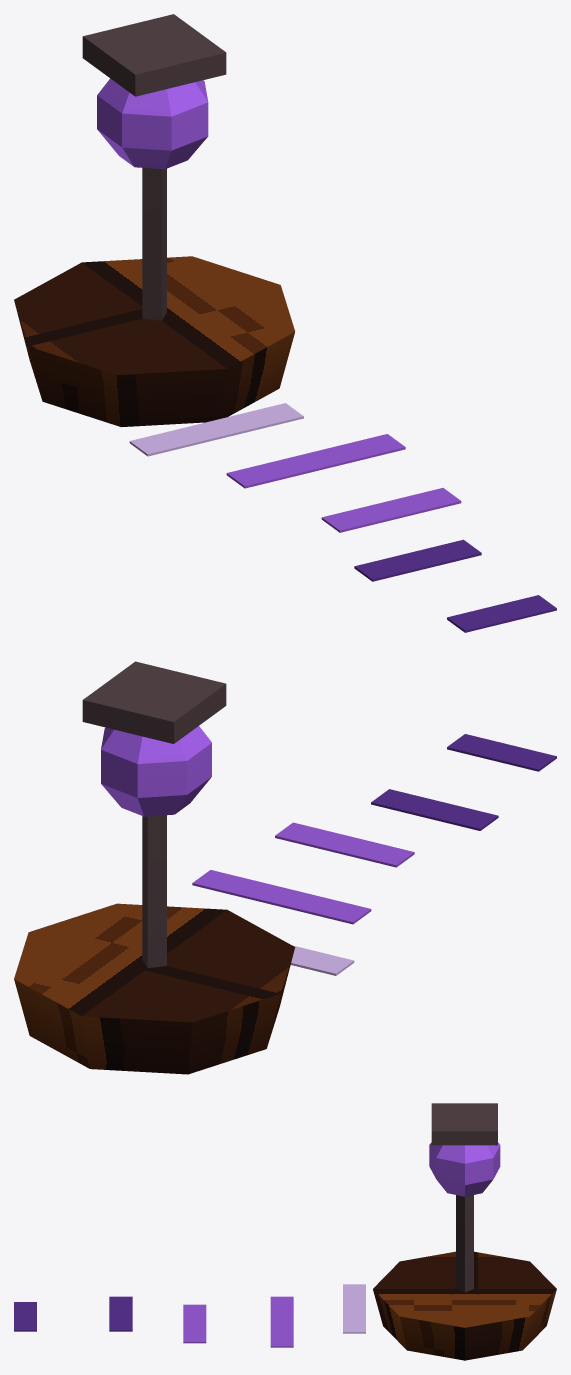
The model's file is float_lantern_violet.glb.
3 views of the same model, one above another, from view 1: azimuth 30°, elevation 25°; view 2: azimuth 150°, elevation 25°; view 3: azimuth 270°, elevation 25° (orthographic). The views are drawn at different scales.
Visible parts, largest first — view 1: float_lantern_violet; view 2: float_lantern_violet; view 3: float_lantern_violet.
Boxes of the visible parts, x1=… form: float_lantern_violet: x1=14, y1=14, x2=556, y2=632; float_lantern_violet: x1=14, y1=661, x2=556, y2=1074; float_lantern_violet: x1=14, y1=1103, x2=556, y2=1360.
Bounding box in the file's own units: 0.72 × 0.9 × 2.12.
Materials: 3 (1 with a texture image).
